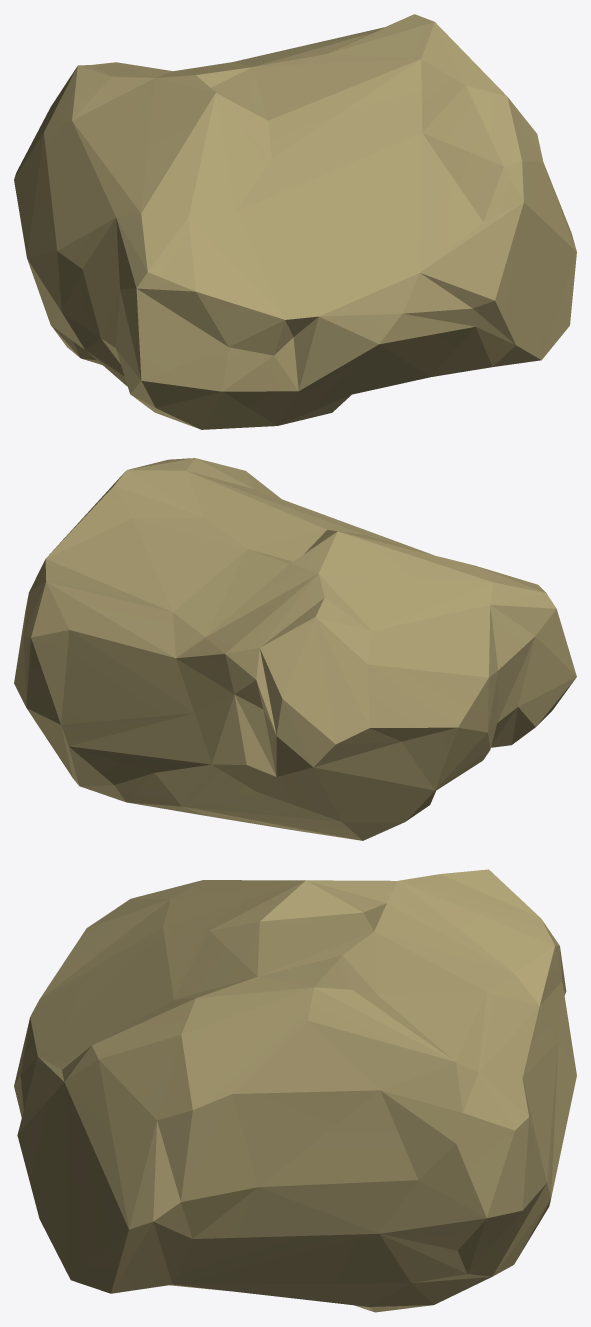
File: SM_rock_47.fbx
3 views of the same model, one above another, from view 1: azimuth 30°, elevation 25°; view 2: azimuth 150°, elevation 25°; view 3: azimuth 270°, elevation 25° (orthographic). The views are drawn at different scales.
Visible parts, largest first — view 1: rock_47; view 2: rock_47; view 3: rock_47.
Part boxes in pixels (<box>): rock_47: <box>14,14,576,429</box>; rock_47: <box>14,458,576,840</box>; rock_47: <box>14,869,576,1312</box>.
Size of the model in its own units: 257 by 170 by 244.
